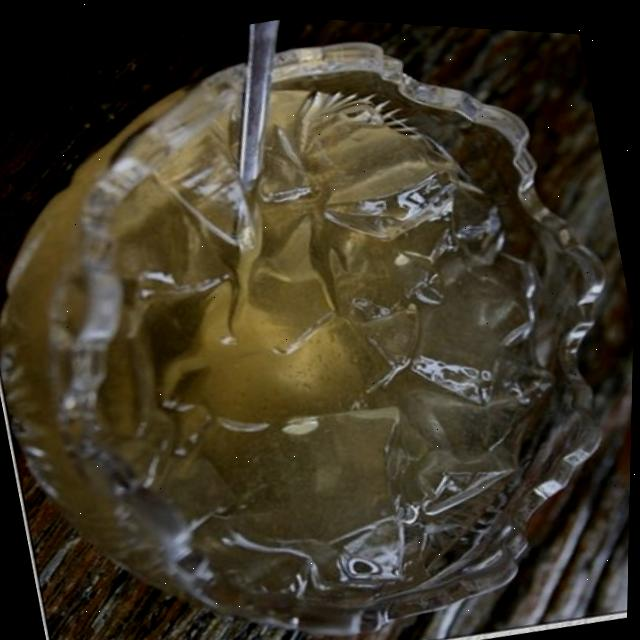蛋糕甜品: (5, 1, 640, 640)
